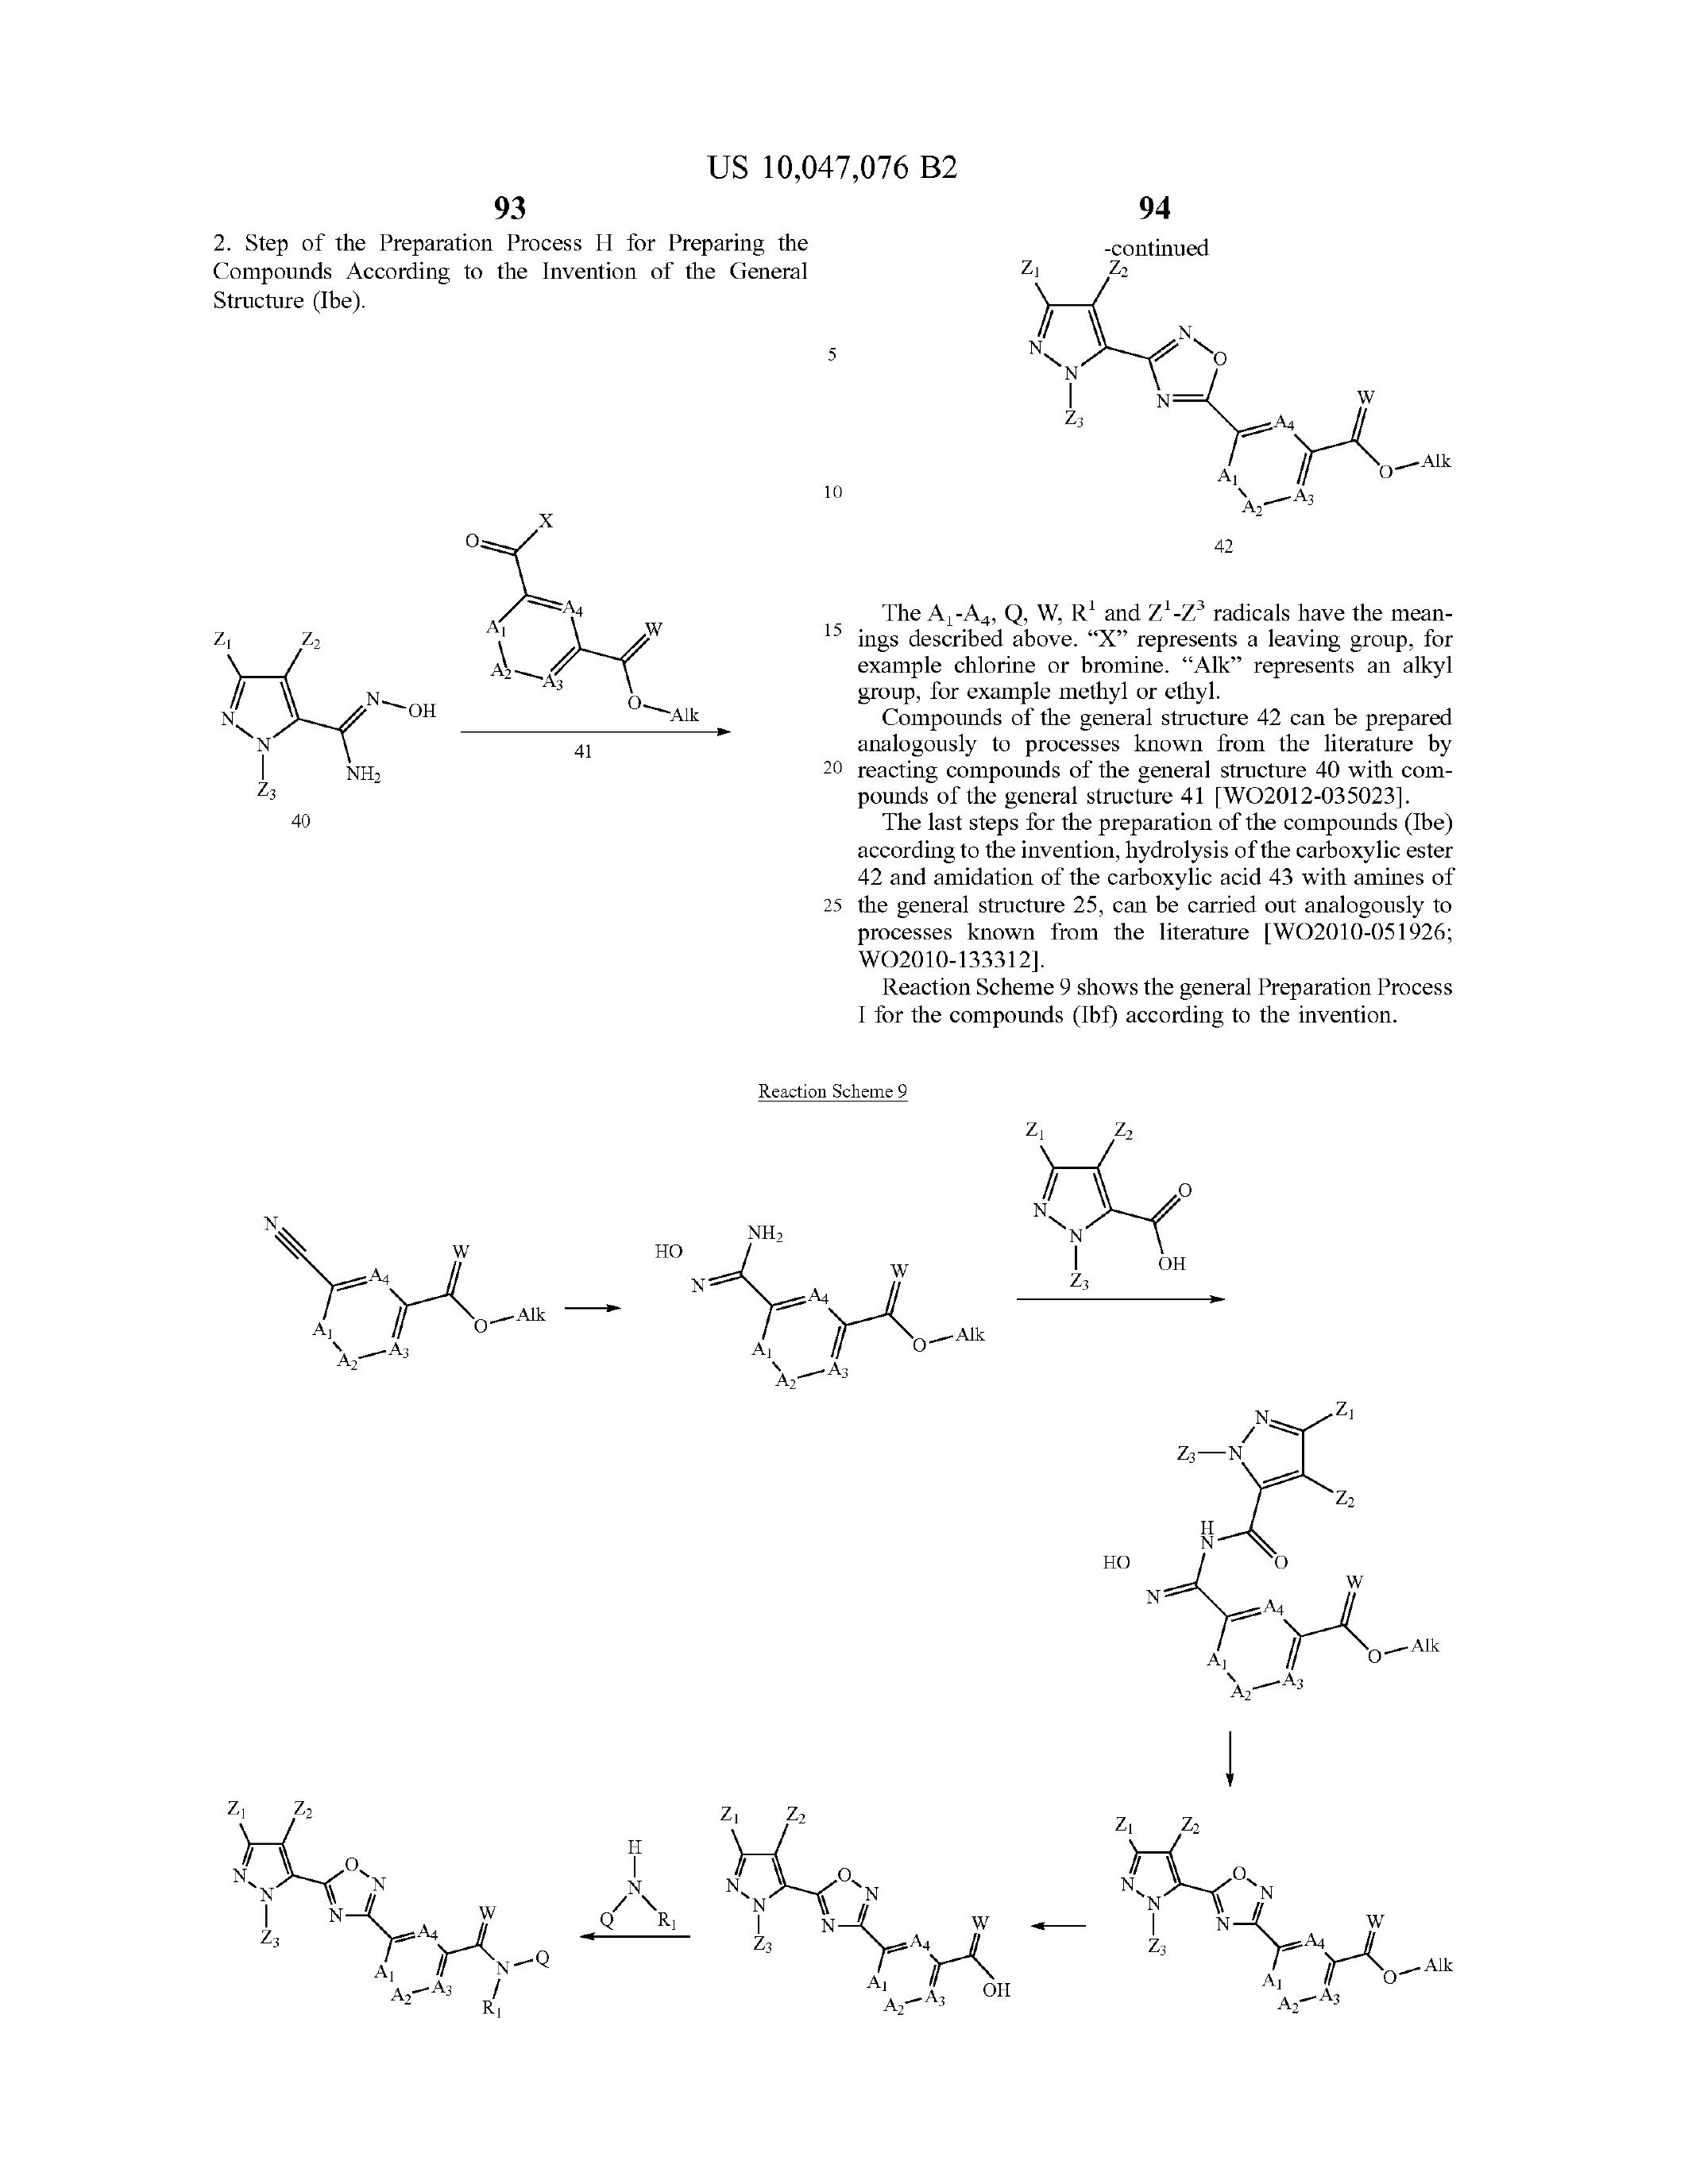markush-structures: (943, 215, 1505, 521)
reactions: (191, 1152, 1518, 2067)
